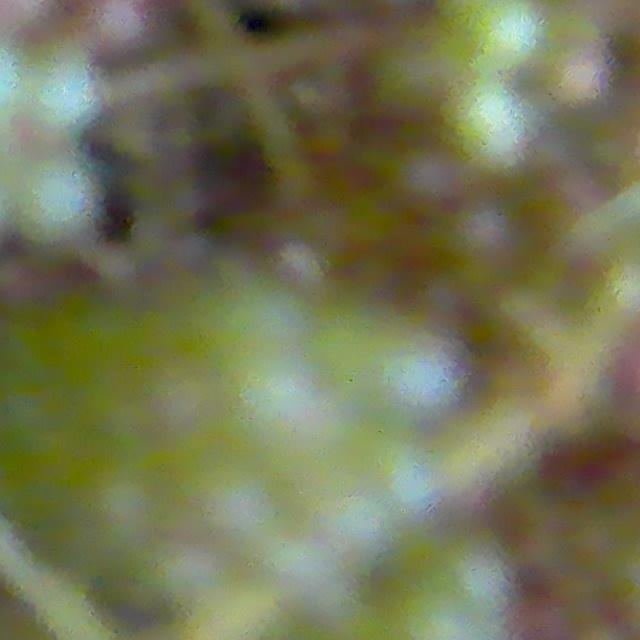SeaGrape: (443, 77, 543, 176), (368, 328, 465, 423), (18, 151, 98, 254), (203, 460, 288, 545), (443, 192, 530, 275), (465, 0, 554, 74), (264, 530, 339, 604), (35, 61, 98, 134), (80, 0, 150, 55)
